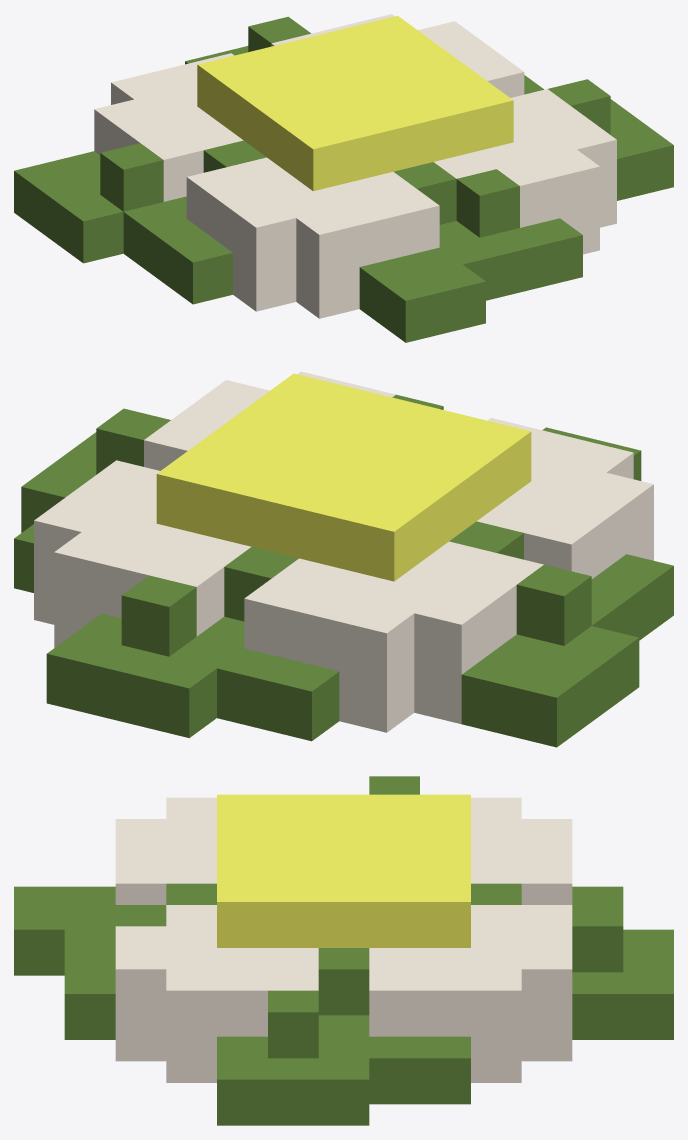
File: flower.fbx
3 renders of one model, top to bottom at view 1: azimuth 30°, elevation 25°; view 2: azimuth 150°, elevation 25°; view 3: azimuth 270°, elevation 25°, orthographic. The views are drawn at different scales.
Parts seen in each view (by area): view 1: ObjObject.009; view 2: ObjObject.009; view 3: ObjObject.009.
Boxes of the visible parts, x1,y1,x2,y2 form: ObjObject.009: (14, 14, 673, 342); ObjObject.009: (14, 371, 673, 747); ObjObject.009: (14, 776, 673, 1125).
Bounding box in the file's own units: 130 × 30 × 130.
